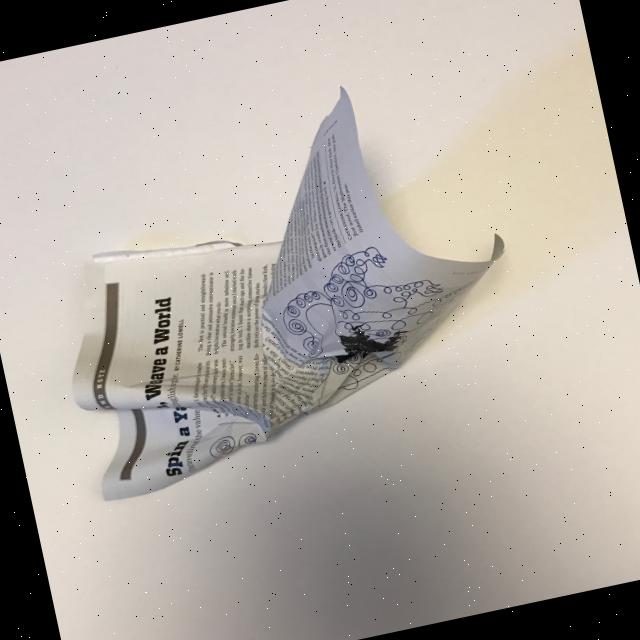paper: (22, 58, 540, 504)
